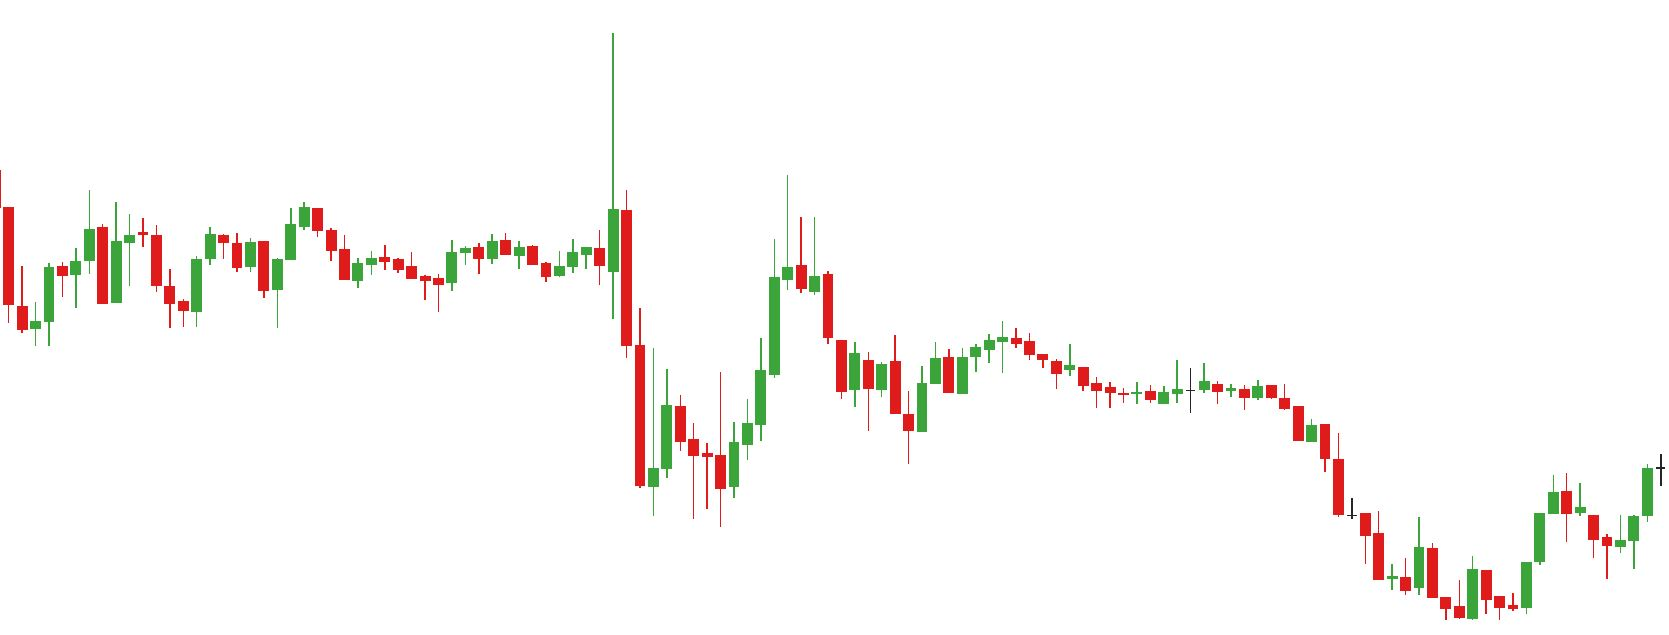sell: (203, 205, 323, 272)
